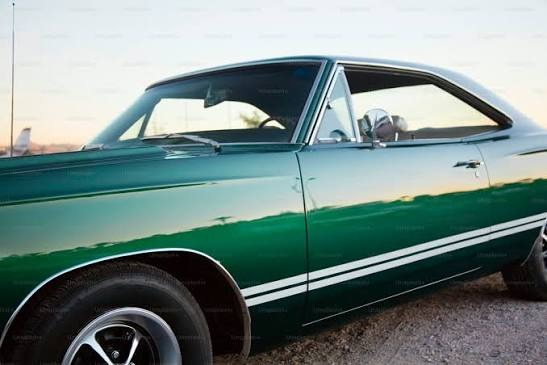car: (1, 49, 547, 365), (1, 47, 547, 354)
